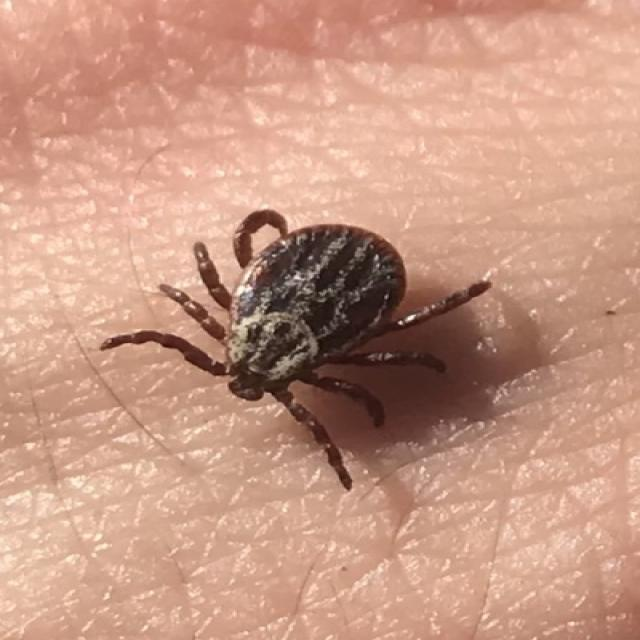Dermacentor Reticulatus-M: (101, 209, 491, 489)
